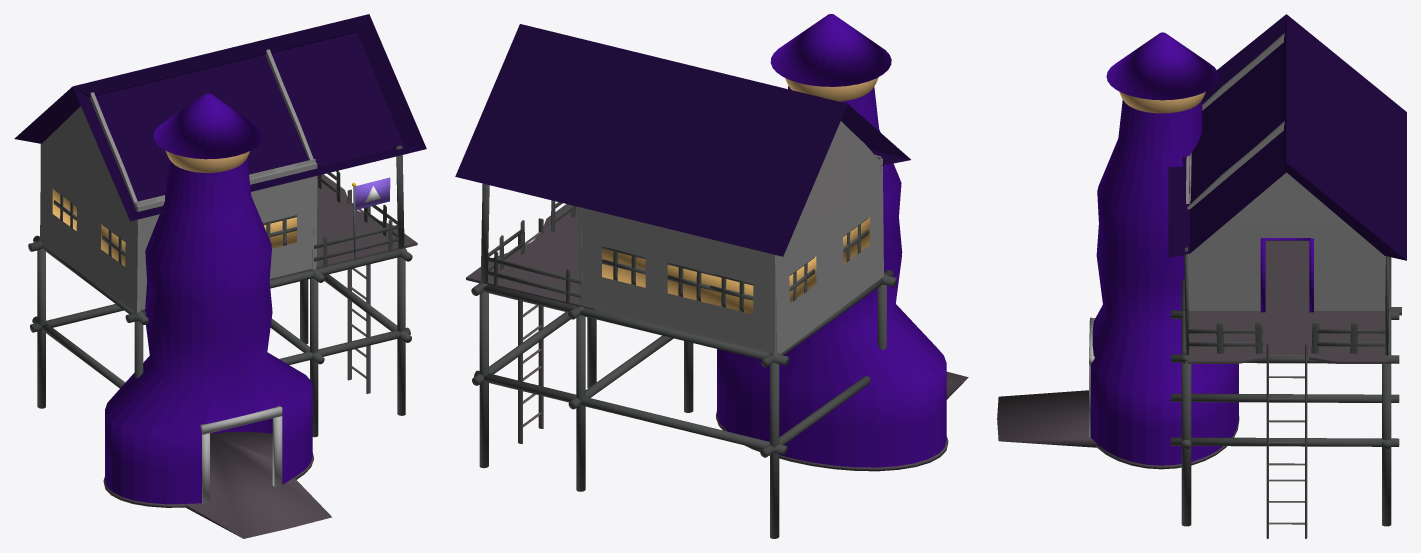
File: playerHome.fbx
3 views of the same model, side by side, from view 1: azimuth 30°, elevation 25°; view 2: azimuth 150°, elevation 25°; view 3: azimuth 270°, elevation 25° (orthographic). The views are drawn at different scales.
Visible parts, largest first — view 1: playerhouse; view 2: playerhouse; view 3: playerhouse.
Part boxes in pixels (x1,y1,x2,y2): playerhouse: [14, 14, 426, 538]; playerhouse: [455, 14, 968, 538]; playerhouse: [997, 14, 1406, 538].
Bounding box in the file's own units: 1884 × 2184 × 2038.
